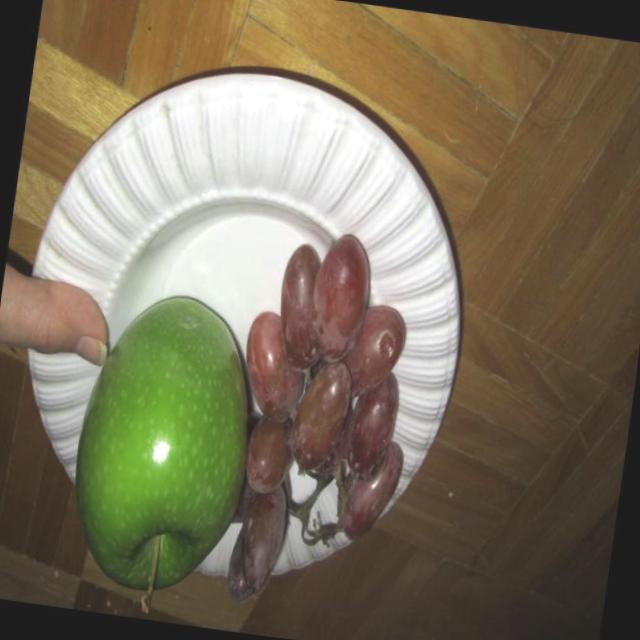Apple: (58, 287, 264, 623)
Finger: (20, 268, 120, 372)
Grapes: (219, 218, 442, 636)
